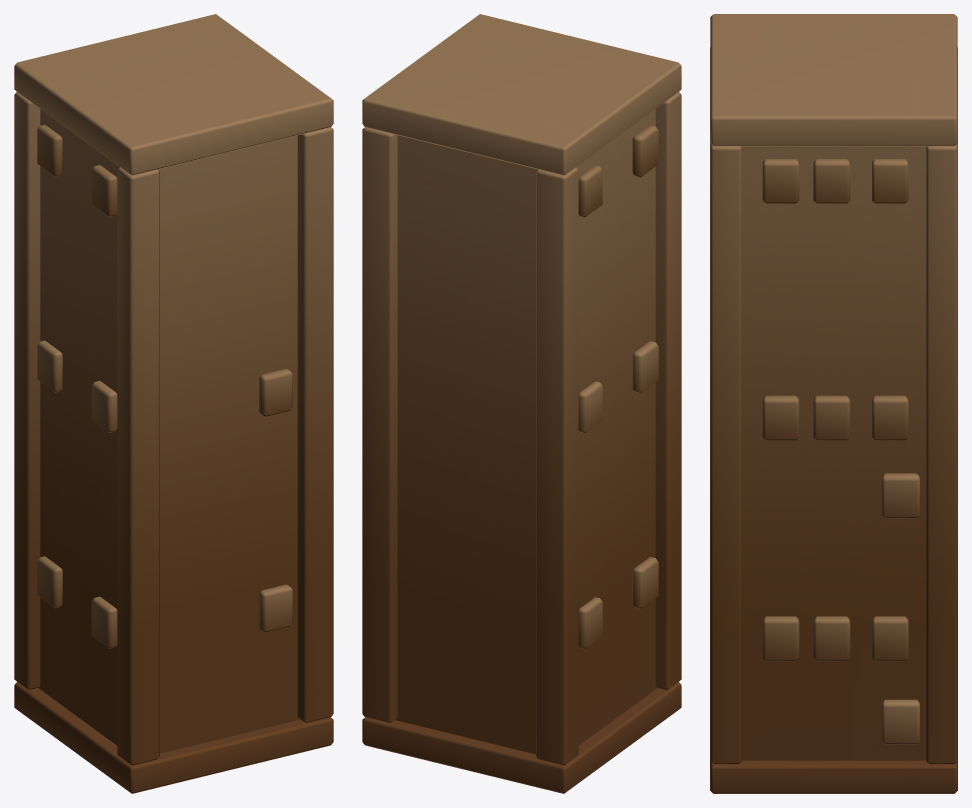
File: SM_Clay_Body_04.fbx
3 renders of one model, left to right at view 1: azimuth 30°, elevation 25°; view 2: azimuth 150°, elevation 25°; view 3: azimuth 270°, elevation 25°, orthographic. The views are drawn at different scales.
Parts seen in each view (by area): view 1: SM_Clay_Body_04; view 2: SM_Clay_Body_04; view 3: SM_Clay_Body_04.
Part boxes in pixels (box(x1,y1,x2,y2)): SM_Clay_Body_04: box(14, 14, 333, 793); SM_Clay_Body_04: box(362, 14, 681, 793); SM_Clay_Body_04: box(710, 14, 957, 793).
Bounding box in the file's own units: 0.9992 × 2.99 × 0.991.
